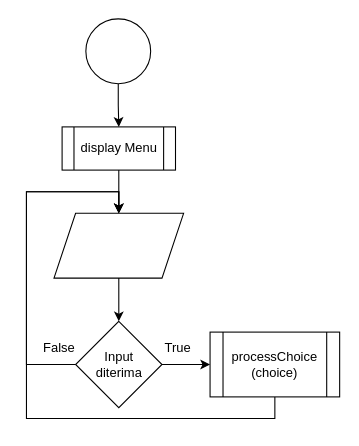
Some shapes in this 359 by 446 pixel diagram are drawn without their labels. The centre of each missing label's shape, as x and y in pixels:
Input pilihan menu user (choice): pixel 118 245
Start: pixel 118 51
